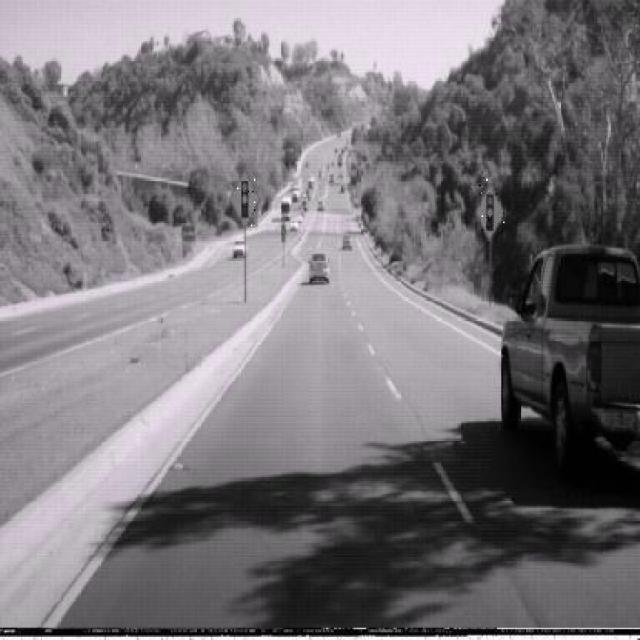signalAhead: (477, 179, 508, 241), (230, 166, 260, 229)
